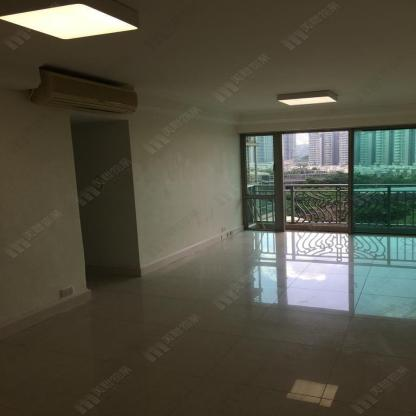AC: (30, 68, 137, 113)
